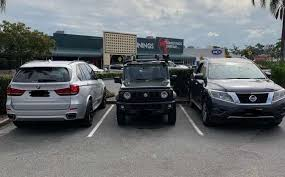car: (6, 60, 108, 131), (187, 60, 285, 128), (116, 59, 177, 127)
